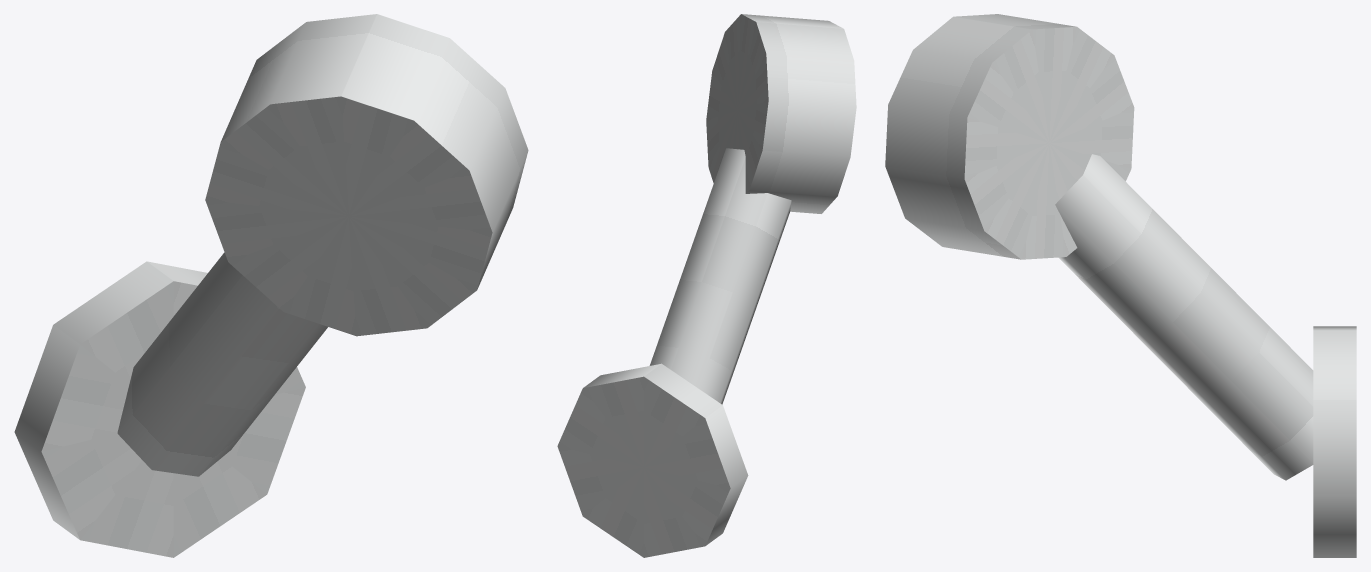
File: nycsignalarm_stub_171.obj
The picture shows the model from 3 angles, left to right: view 1: azimuth 30°, elevation 25°; view 2: azimuth 150°, elevation 25°; view 3: azimuth 270°, elevation 25°; orthographic projection. The views are drawn at different scales.
Parts seen in each view (by area): view 1: nycsignalarm_stub_171; view 2: nycsignalarm_stub_171; view 3: nycsignalarm_stub_171.
Part boxes in pixels (x1=…): nycsignalarm_stub_171: x1=14, y1=14, x2=528, y2=557; nycsignalarm_stub_171: x1=557, y1=14, x2=856, y2=557; nycsignalarm_stub_171: x1=885, y1=14, x2=1356, y2=557.
Size of the model in its own units: 0.3587 by 0.8395 by 0.6693.
